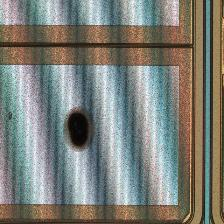PO CONTAMINATION: (61, 104, 96, 156)
